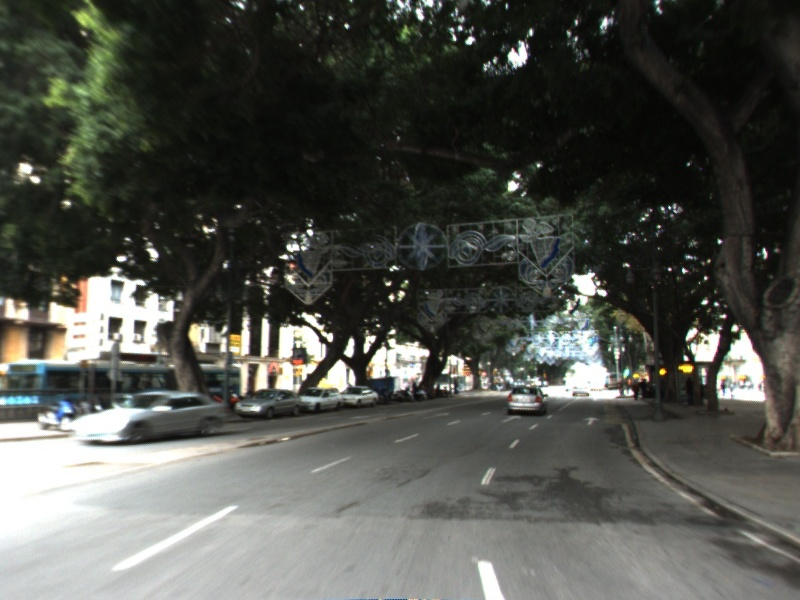STRAIGHT: (498, 412, 524, 425), (581, 415, 603, 427)
